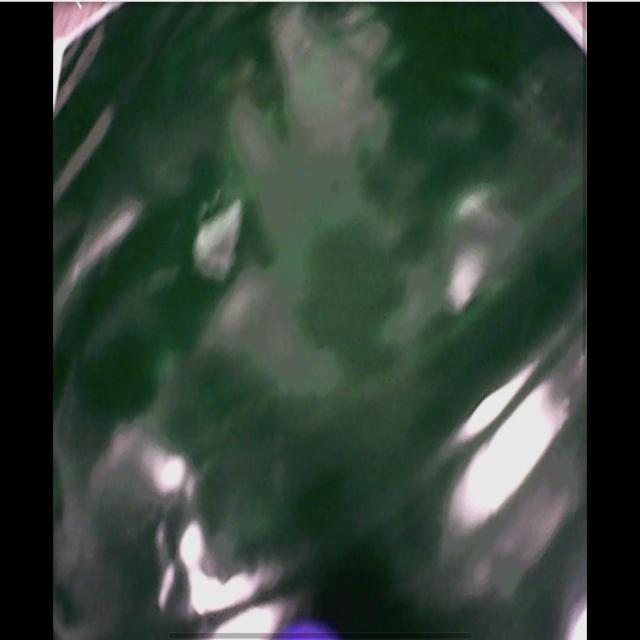ball: (275, 623, 333, 640)
